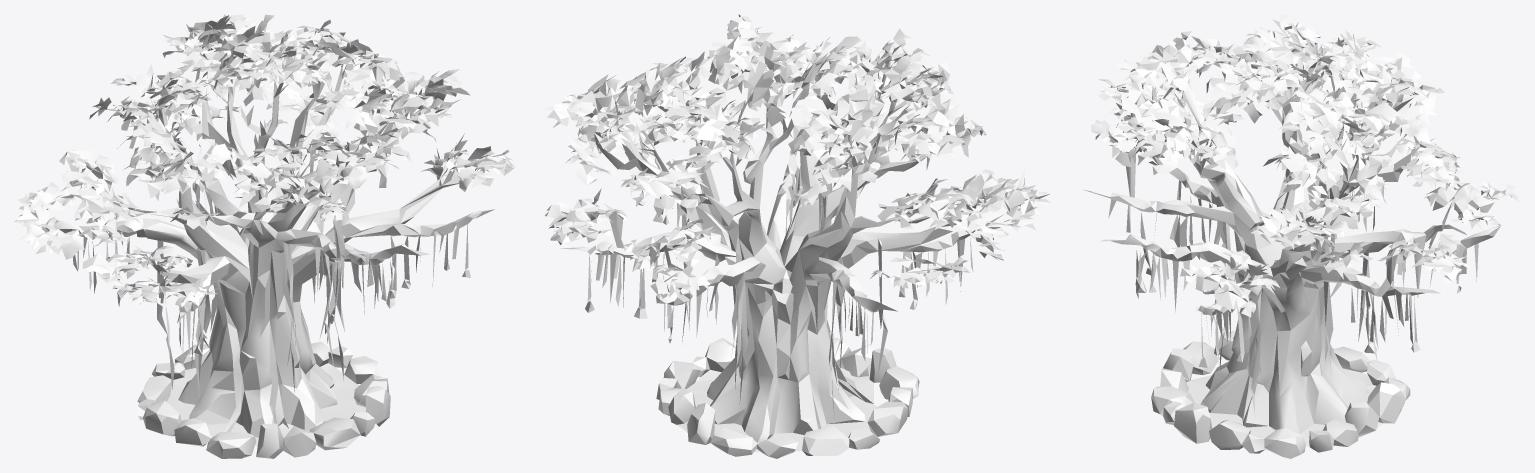
File: oath_tree.glb
3 views of the same model, side by side, from view 1: azimuth 30°, elevation 25°; view 2: azimuth 150°, elevation 25°; view 3: azimuth 270°, elevation 25° (orthographic).
Parts seen in each view (by area): view 1: oath_tree; view 2: oath_tree; view 3: oath_tree.
Part boxes in pixels (x1,y1,x2,y2): oath_tree: [14, 14, 515, 458]; oath_tree: [545, 14, 1050, 458]; oath_tree: [1083, 14, 1519, 458].
Size of the model in its own units: 20.67 by 16 by 17.28.
1 material, 1 textured.
